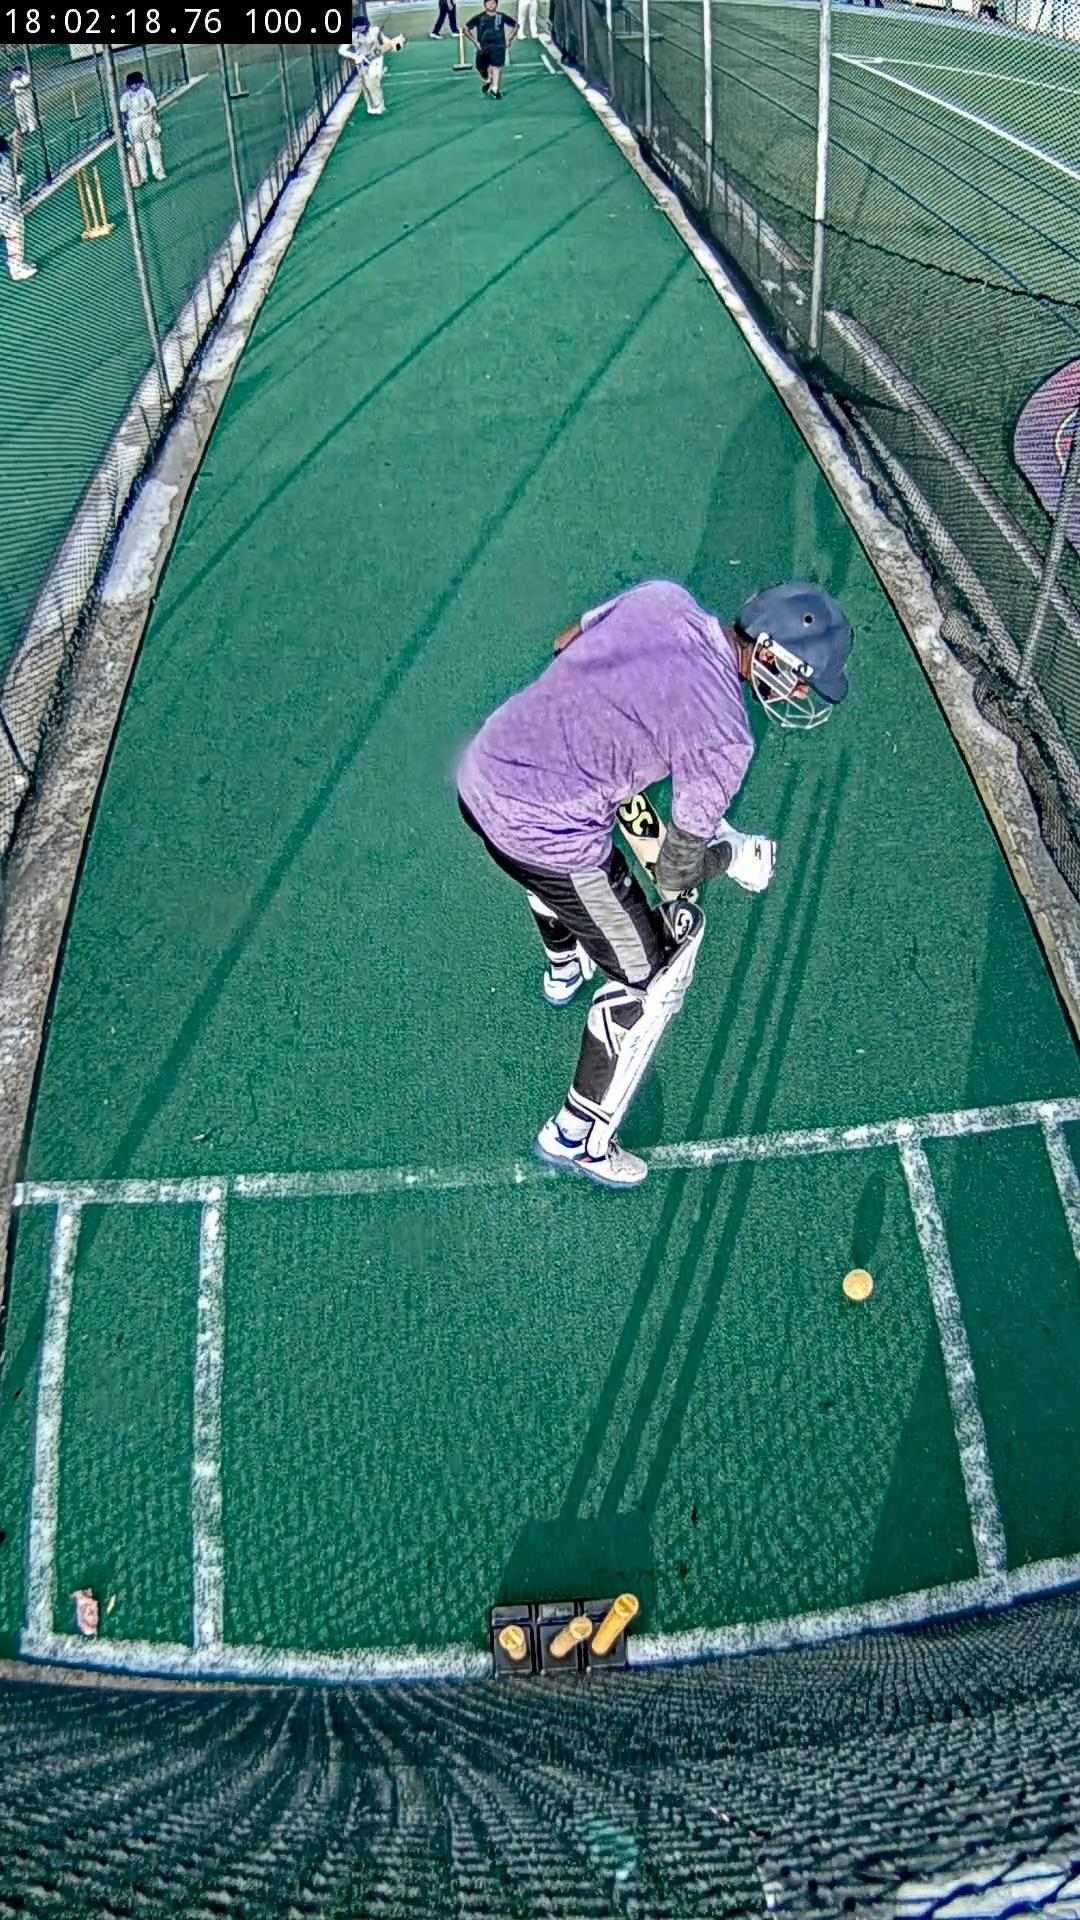ball: (844, 1267, 874, 1302)
bat: (615, 791, 667, 877)
gloves: (720, 822, 777, 893)
helmet: (735, 582, 852, 702)
pads: (600, 899, 705, 1127)
stumps: (492, 1594, 641, 1675)
